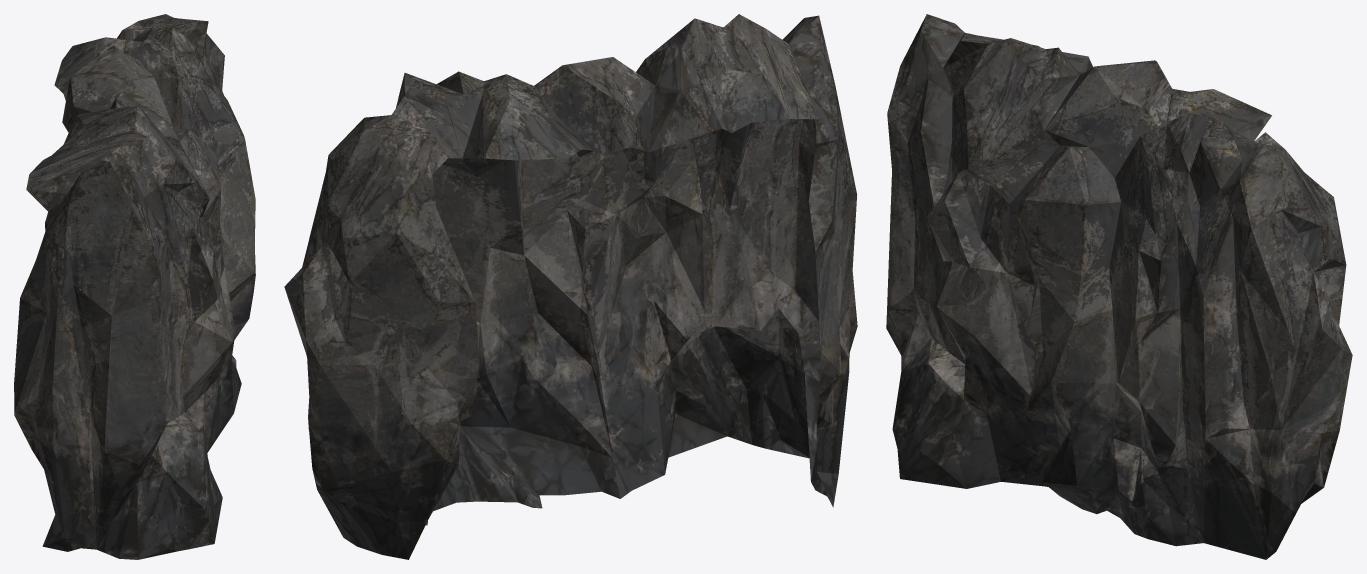
File: shg_Rock_Wall_001_REF.glb
3 views of the same model, side by side, from view 1: azimuth 30°, elevation 25°; view 2: azimuth 150°, elevation 25°; view 3: azimuth 270°, elevation 25° (orthographic). The views are drawn at different scales.
Parts seen in each view (by area): view 1: shg Rock Wall 001 REF.021; view 2: shg Rock Wall 001 REF.021; view 3: shg Rock Wall 001 REF.021.
Part boxes in pixels (x1,y1,x2,y2): shg Rock Wall 001 REF.021: [14, 14, 255, 559]; shg Rock Wall 001 REF.021: [284, 14, 857, 559]; shg Rock Wall 001 REF.021: [886, 14, 1352, 559].
Size of the model in its own units: 3.87 by 4.51 by 4.43.
1 material, 1 textured.
